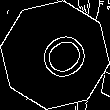O_SW: (22, 23, 88, 87)
